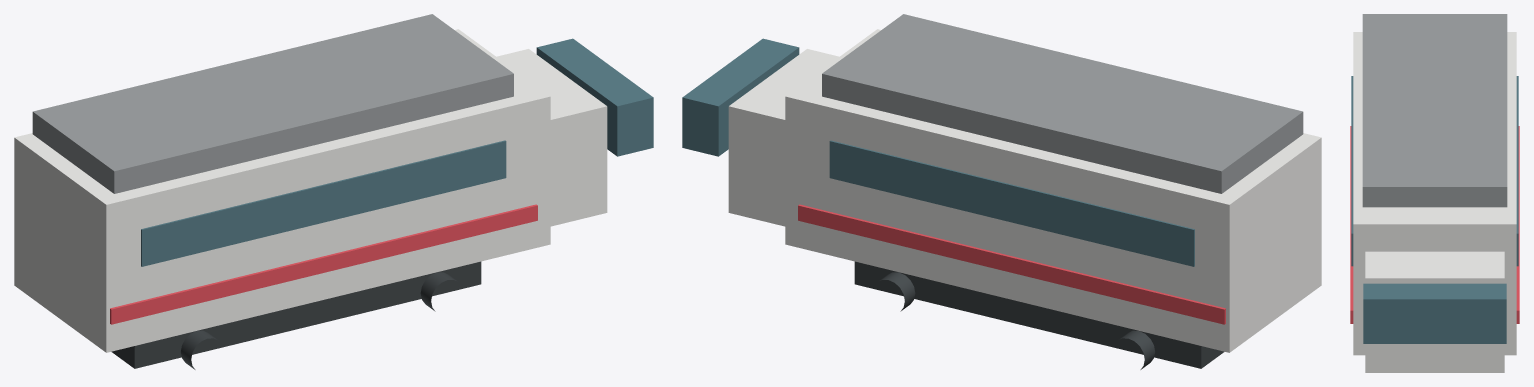
Rendered from giruno.glb.
3 renders of one model, left to right at view 1: azimuth 30°, elevation 25°; view 2: azimuth 150°, elevation 25°; view 3: azimuth 270°, elevation 25°, orthographic. The views are drawn at different scales.
Parts seen in each view (by area): view 1: body_shell, roof, window_band, front_nose, undercarriage, livery_stripe, front_glass, bogie_front_1, bogie_front_0; view 2: body_shell, roof, window_band, front_nose, undercarriage, livery_stripe, front_glass, bogie_back_1, bogie_back_0; view 3: roof, body_shell, front_glass, front_nose, window_band, livery_stripe.
Boxes of the visible parts, x1=… form: body_shell: x1=14, y1=29, x2=550, y2=352; roof: x1=32, y1=14, x2=513, y2=193; window_band: x1=141, y1=140, x2=506, y2=266; front_nose: x1=496, y1=49, x2=607, y2=226; undercarriage: x1=111, y1=261, x2=481, y2=368; livery_stripe: x1=110, y1=204, x2=537, y2=324; front_glass: x1=536, y1=38, x2=653, y2=156; bogie_front_1: x1=420, y1=272, x2=457, y2=311; bogie_front_0: x1=181, y1=330, x2=218, y2=369; body_shell: x1=785, y1=29, x2=1321, y2=352; roof: x1=822, y1=14, x2=1303, y2=193; window_band: x1=829, y1=140, x2=1194, y2=266; front_nose: x1=728, y1=49, x2=839, y2=226; undercarriage: x1=854, y1=261, x2=1224, y2=368; livery_stripe: x1=798, y1=204, x2=1225, y2=324; front_glass: x1=682, y1=38, x2=799, y2=156; bogie_back_1: x1=878, y1=272, x2=915, y2=311; bogie_back_0: x1=1117, y1=330, x2=1154, y2=369; roof: x1=1362, y1=14, x2=1507, y2=207; body_shell: x1=1353, y1=32, x2=1516, y2=355; front_glass: x1=1363, y1=283, x2=1506, y2=343; front_nose: x1=1365, y1=251, x2=1504, y2=372; window_band: x1=1351, y1=76, x2=1518, y2=266; livery_stripe: x1=1350, y1=126, x2=1519, y2=323.
Size of the model in its own units: 3.05 by 1.16 by 0.91.
